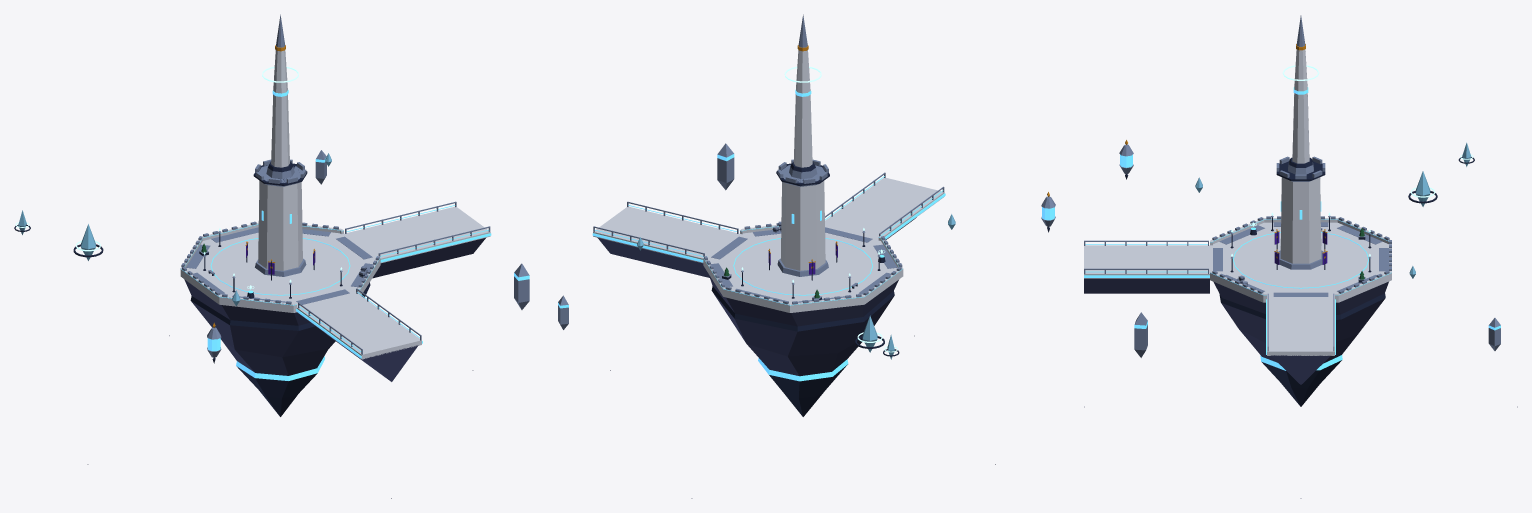
File: chunk_path_bend.fbx
3 renders of one model, left to right at view 1: azimuth 30°, elevation 25°; view 2: azimuth 150°, elevation 25°; view 3: azimuth 270°, elevation 25°, orthographic. The views are drawn at different scales.
Parts seen in each view (by area): view 1: chunk_path_bend; view 2: chunk_path_bend; view 3: chunk_path_bend.
Boxes of the visible parts, x1,y1,x2,y2 form: chunk_path_bend: (14,14,529,498); chunk_path_bend: (558,14,1055,498); chunk_path_bend: (1084,15,1517,498).
Size of the model in its own units: 256 by 256 by 256.
